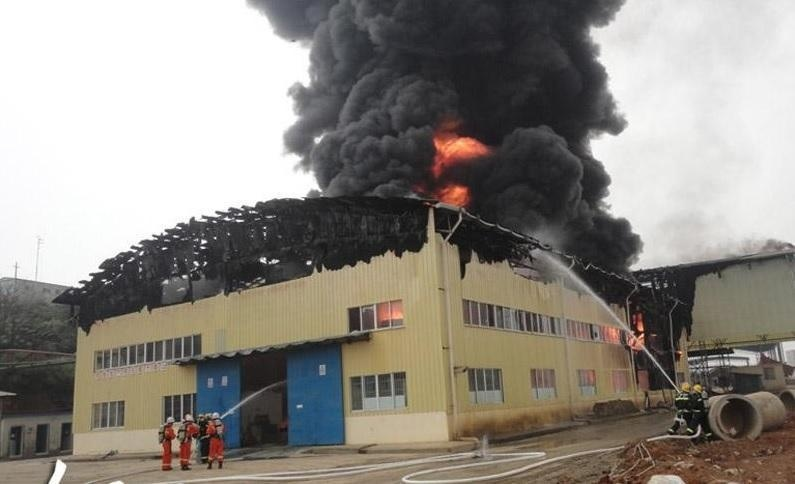fire: (431, 131, 485, 197), (434, 182, 468, 204)
